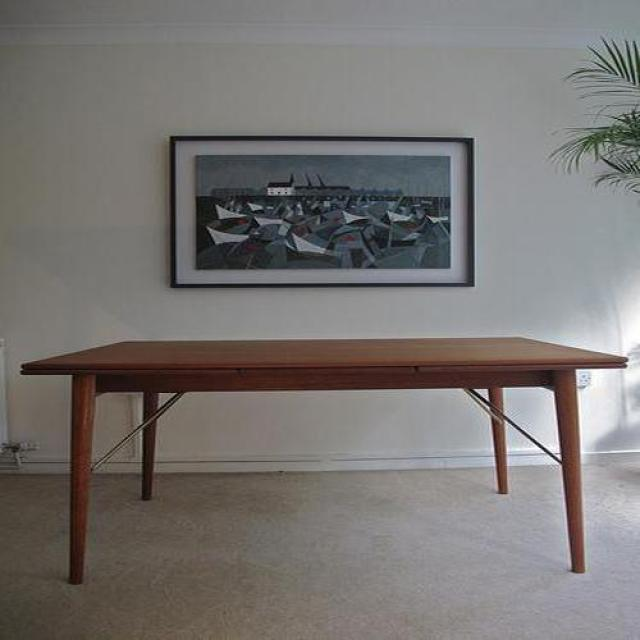table: (23, 338, 628, 586)
